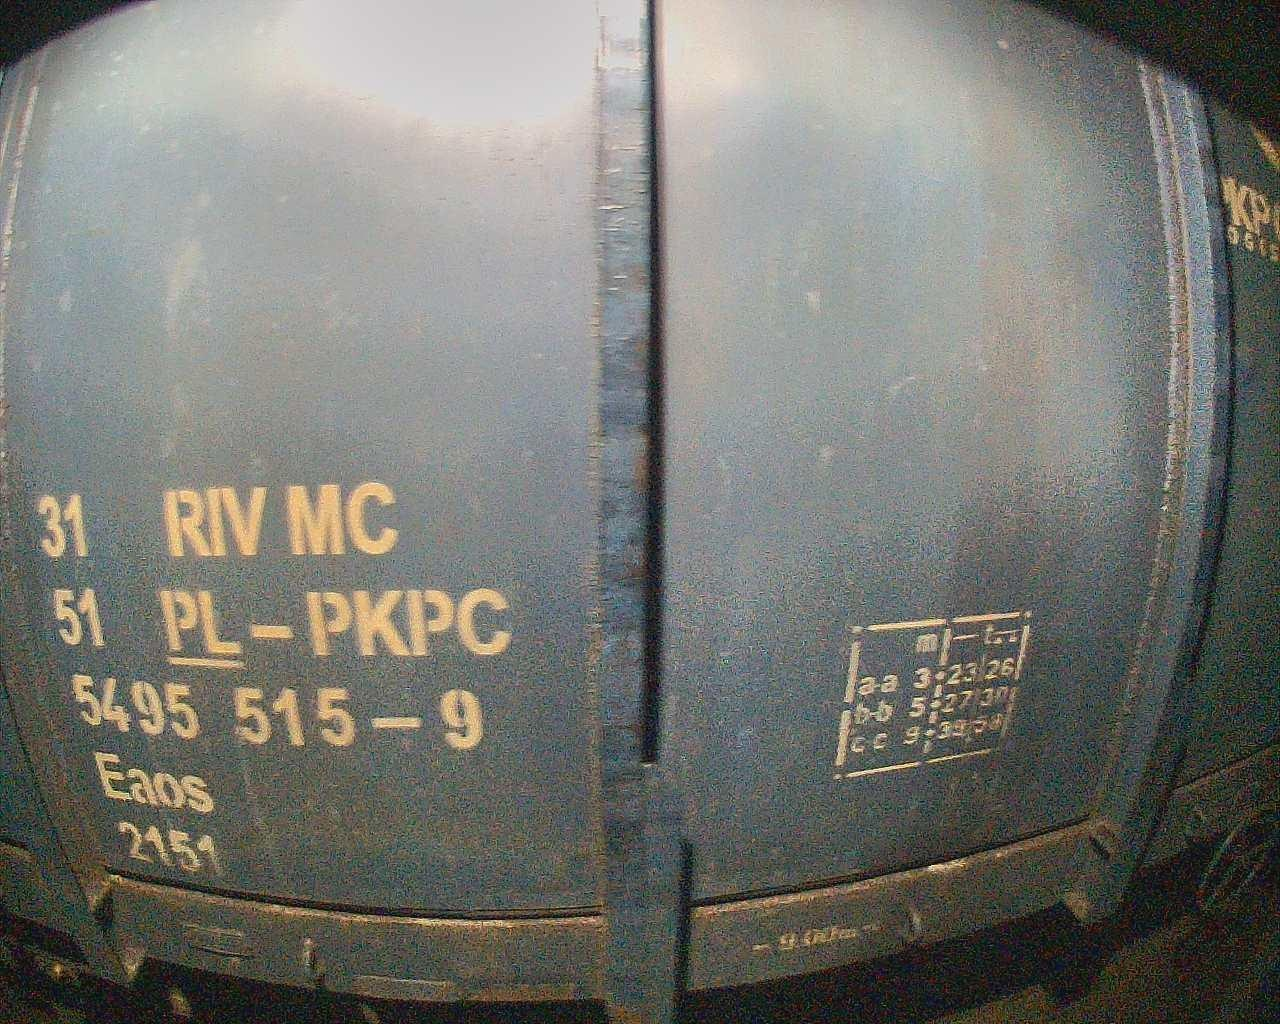UIC: (29, 478, 512, 879)
